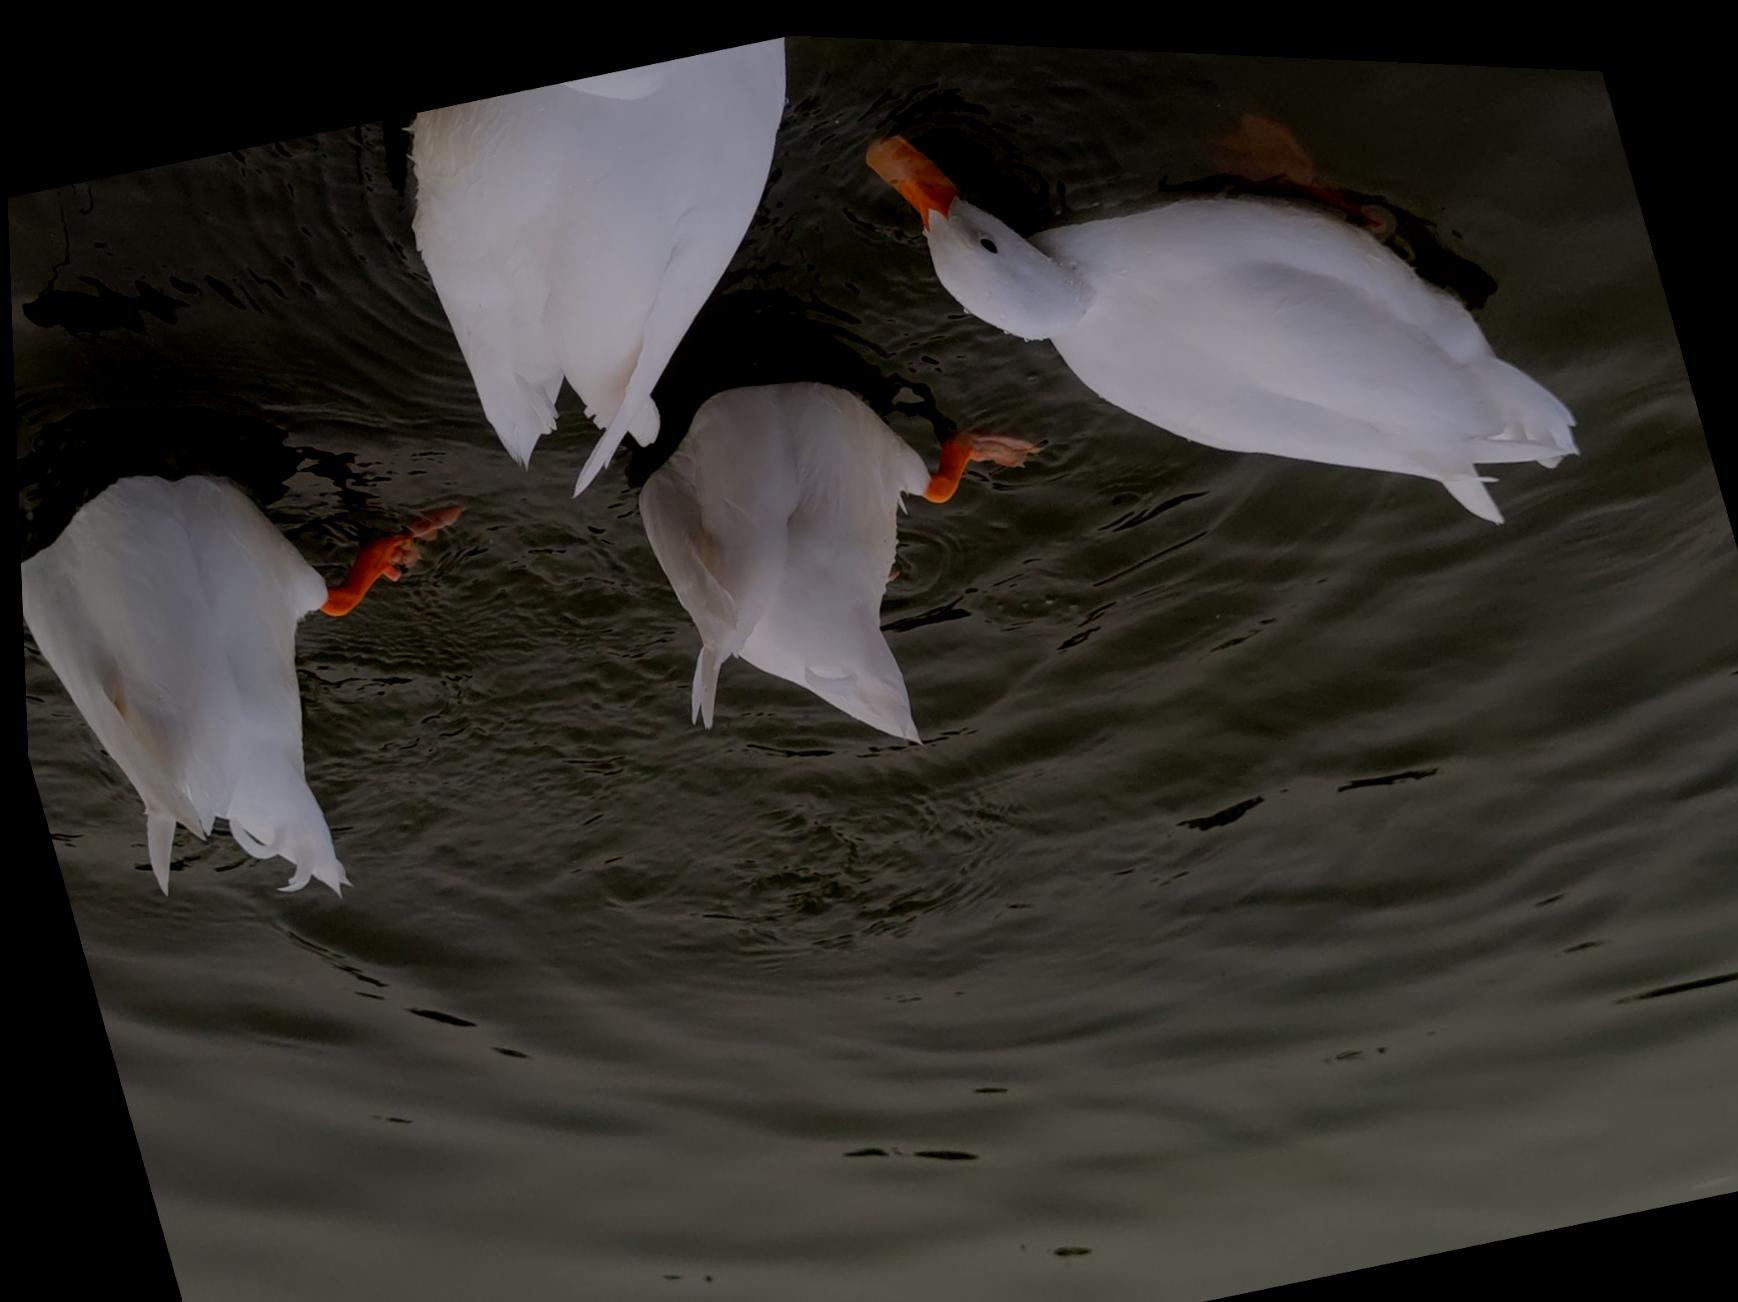duck: (855, 30, 1603, 648), (11, 397, 554, 948), (362, 12, 913, 531), (576, 297, 1106, 803)
